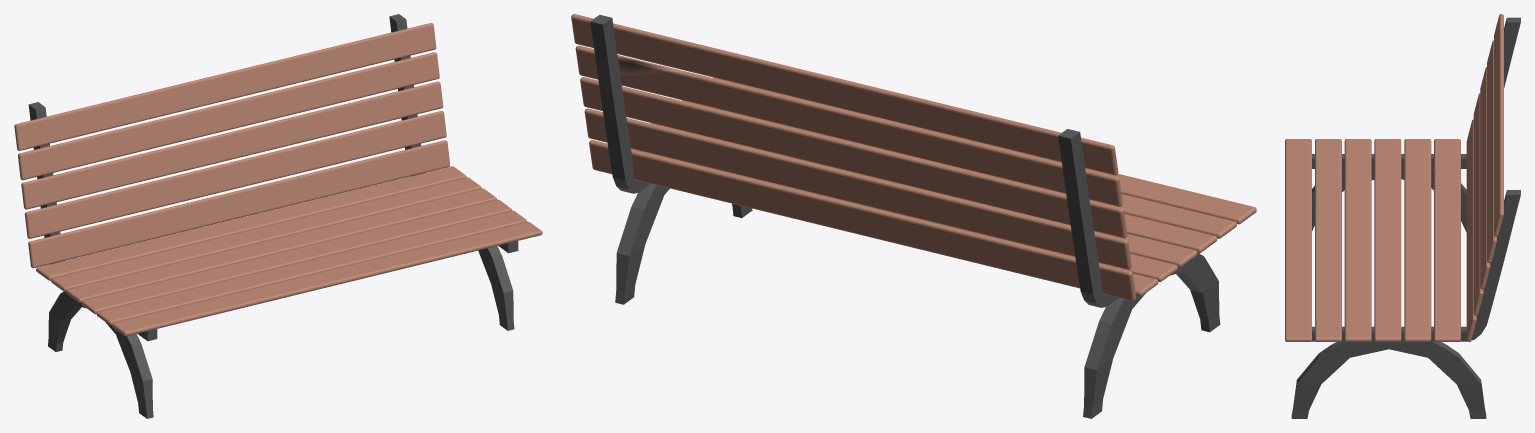
File: Bench.fbx
The picture shows the model from 3 angles, left to right: view 1: azimuth 30°, elevation 25°; view 2: azimuth 150°, elevation 25°; view 3: azimuth 270°, elevation 25°; orthographic projection. The views are drawn at different scales.
Visible parts, largest first — view 1: Bench; view 2: Bench; view 3: Bench.
Boxes of the visible parts, x1,y1,x2,y2 form: Bench: [14, 14, 542, 418]; Bench: [571, 14, 1256, 418]; Bench: [1285, 14, 1520, 418].
Bounding box in the file's own units: 106 × 55.3 × 52.57.
